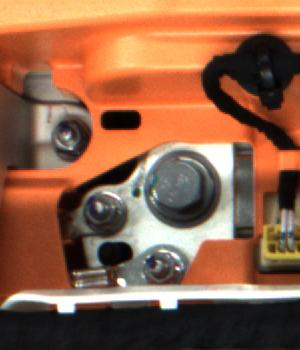nut_b: (141, 146, 228, 228)
screw_s: (50, 115, 92, 163), (137, 244, 183, 286), (78, 190, 119, 229)
